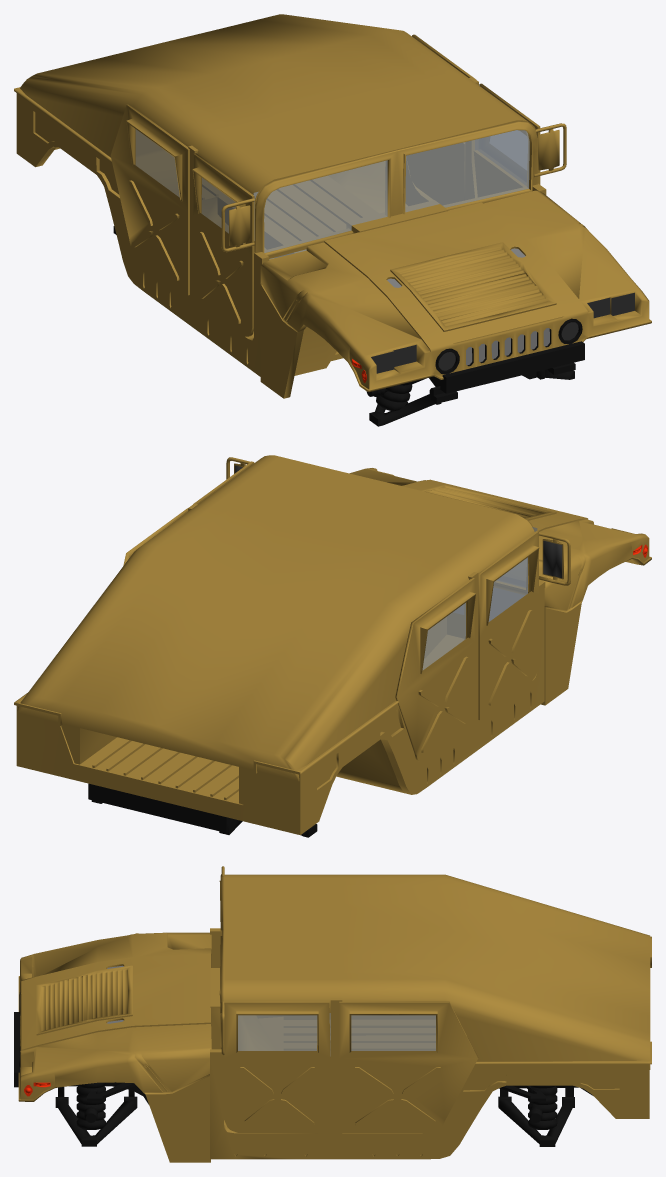
The model's file is humvee_body.obj.
3 renders of one model, top to bottom at view 1: azimuth 30°, elevation 25°; view 2: azimuth 150°, elevation 25°; view 3: azimuth 270°, elevation 25°, orthographic. The views are drawn at different scales.
Size of the model in its own units: 184 by 99.59 by 330.
